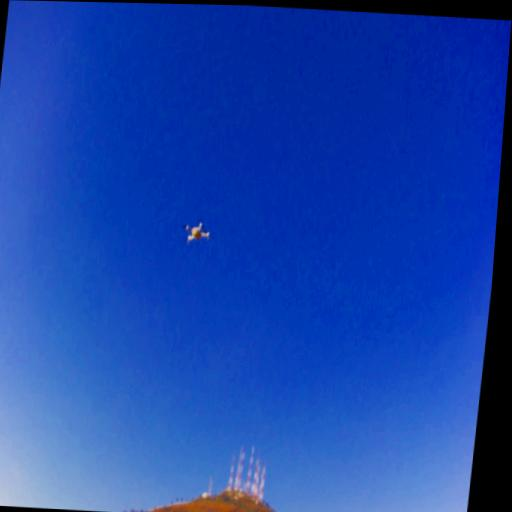drones: (179, 213, 215, 254)
